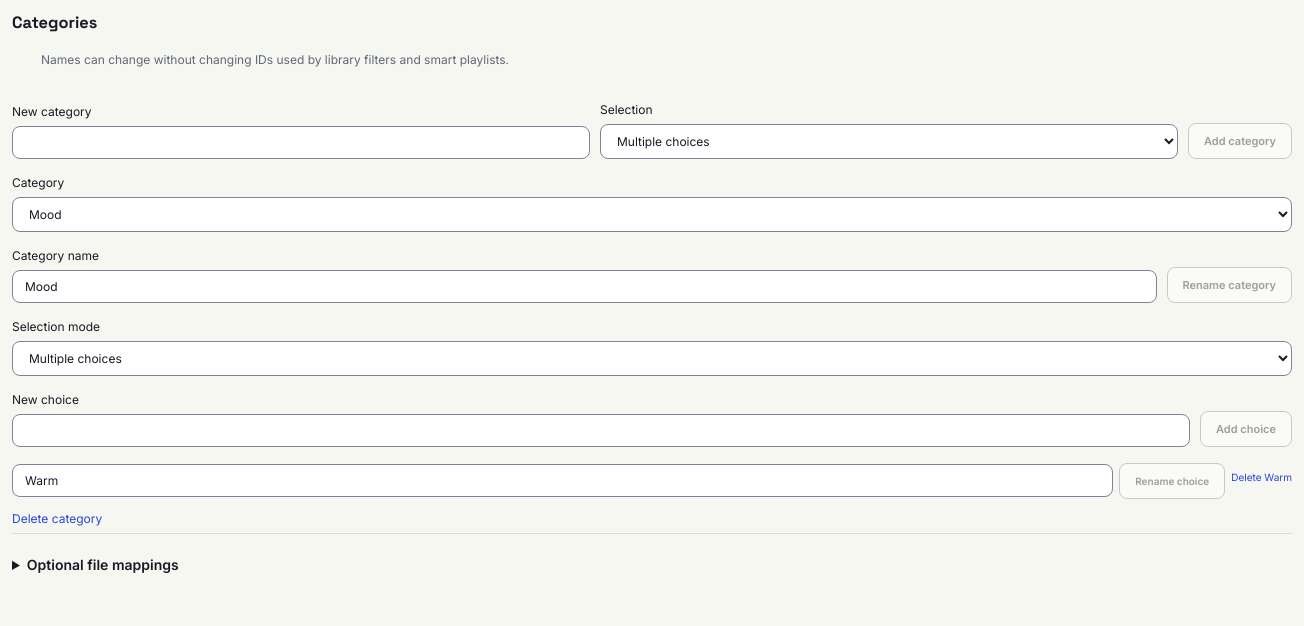
Test: category management › renames stable category IDs using the captured taxonomy revision
Replace the text in the field labelled "Category name" with "Feeling" at point(584, 286), box [12,270,1156,303]
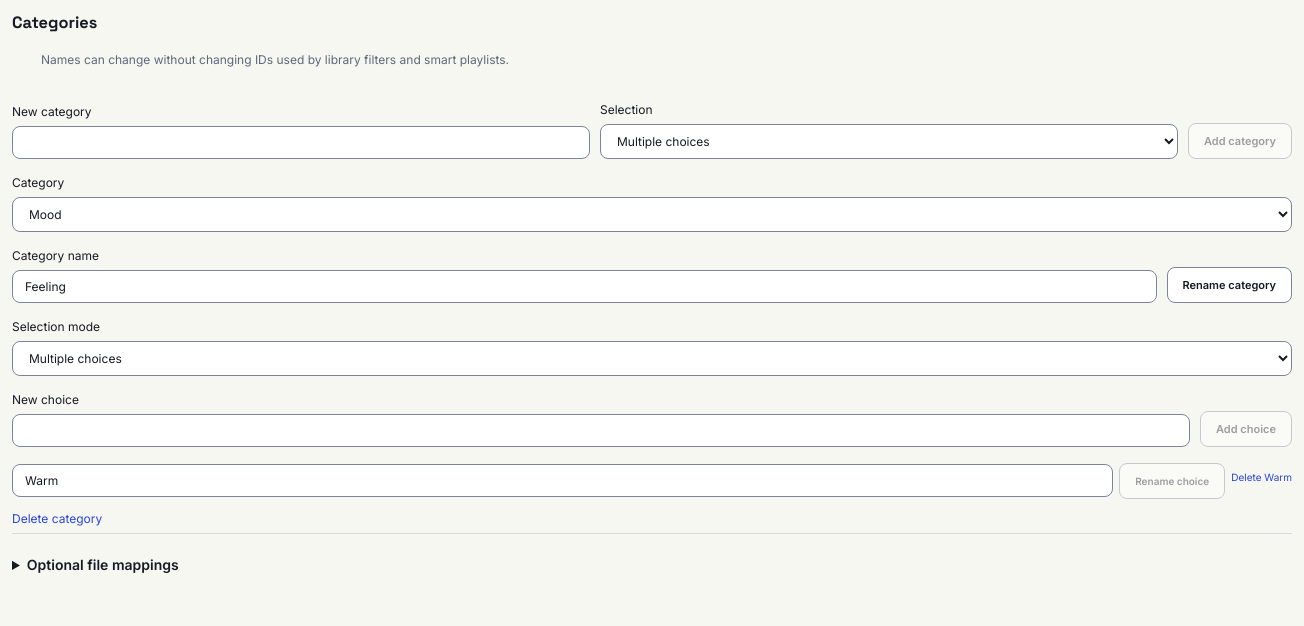
Click the button "Rename category" at point(1229, 285), box [1166,267,1292,303]
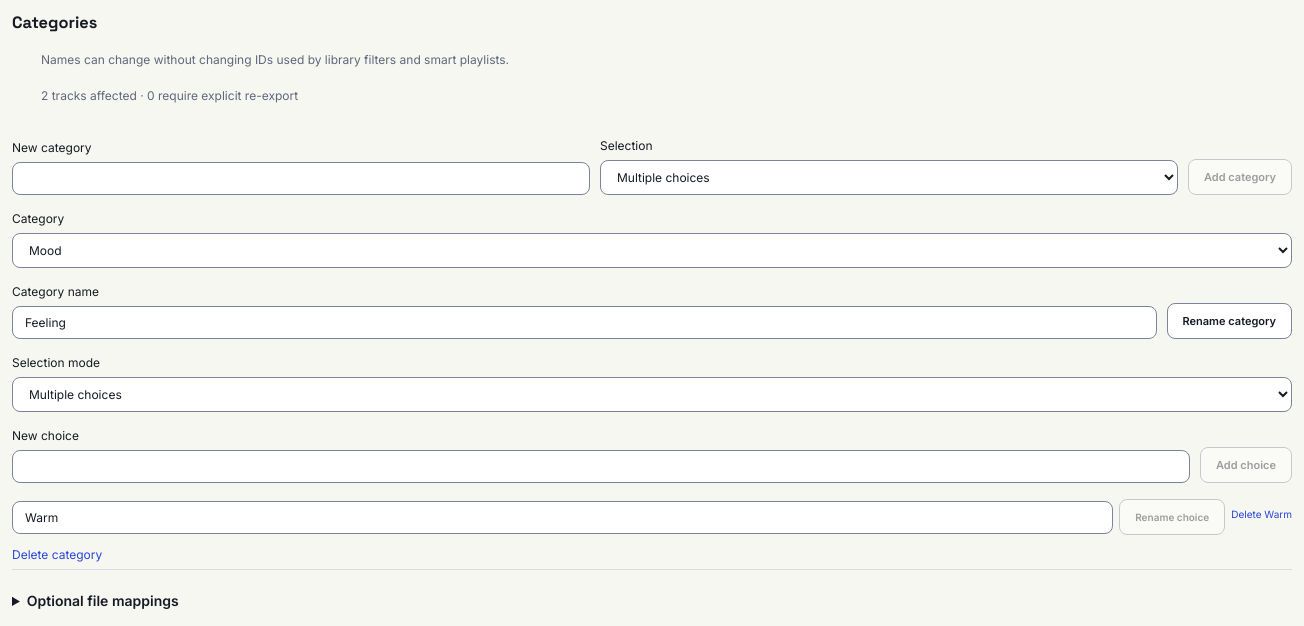
Expected: the text "2 tracks affected · 0 require explicit re-export" is shown, [41,88,298,103]
